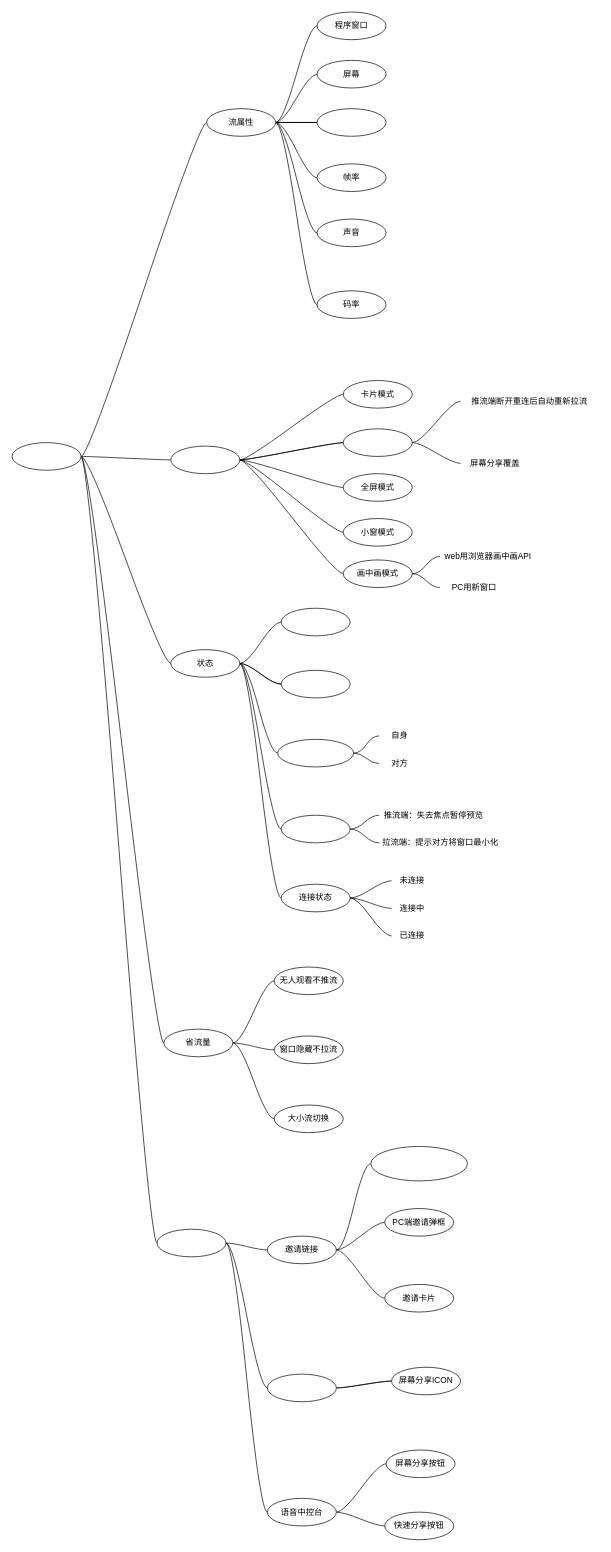
Image size: 611x1552. Some labels were removed from this diagram. Each missing label, with the box of its shape:
入口: (156, 1229, 226, 1257)
分辨率: (316, 108, 386, 136)
屏幕分享: (11, 442, 81, 470)
弱网提示: (277, 739, 354, 767)
暂停状态: (280, 815, 350, 843)
浏览器打开邀请链接: (370, 1146, 467, 1181)
聚焦模式: (343, 428, 412, 456)
静音状态: (280, 608, 350, 636)
音量大小: (280, 670, 350, 698)
预览模式: (170, 445, 240, 474)
频道用户列表: (267, 1373, 336, 1402)
